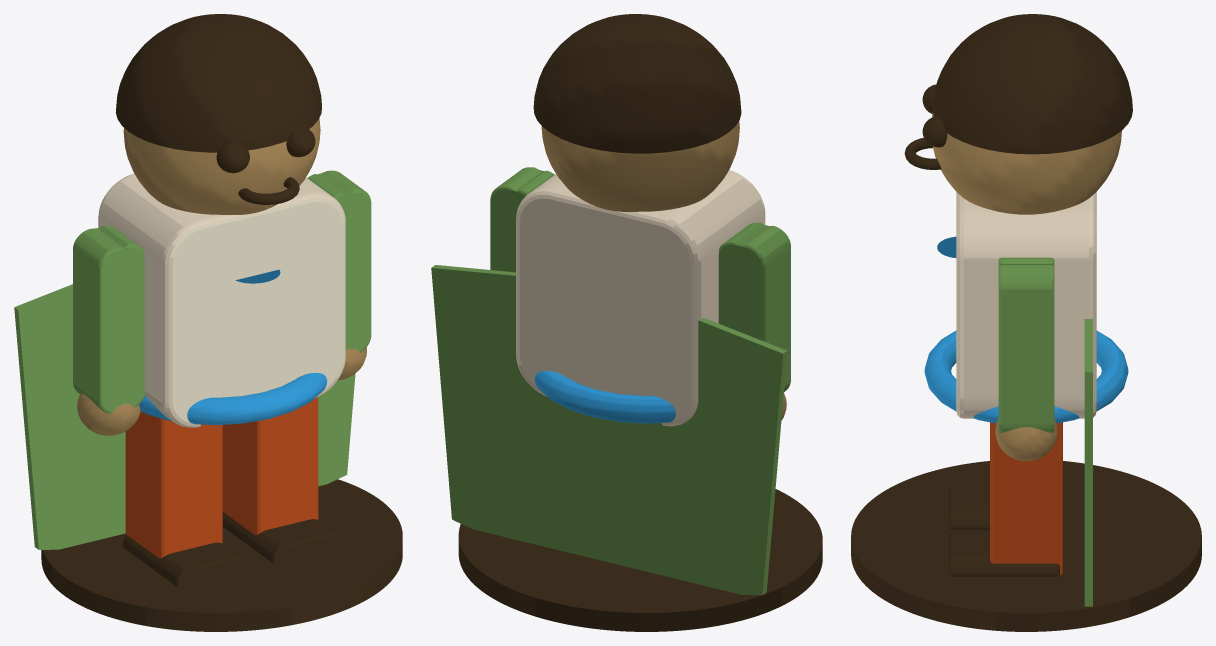
The model's file is 0274_世界古代文明图鉴_古罗马士兵.glb.
The picture shows the model from 3 angles, left to right: view 1: azimuth 30°, elevation 25°; view 2: azimuth 150°, elevation 25°; view 3: azimuth 270°, elevation 25°; orthographic projection.
Parts seen in each view (by area): view 1: card_0274; view 2: card_0274; view 3: card_0274.
Boxes of the visible parts, x1,y1,x2,y2 form: card_0274: (14, 14, 402, 631); card_0274: (431, 14, 822, 631); card_0274: (851, 14, 1201, 631).
Size of the model in its own units: 0.6739 by 1 by 0.5865.
